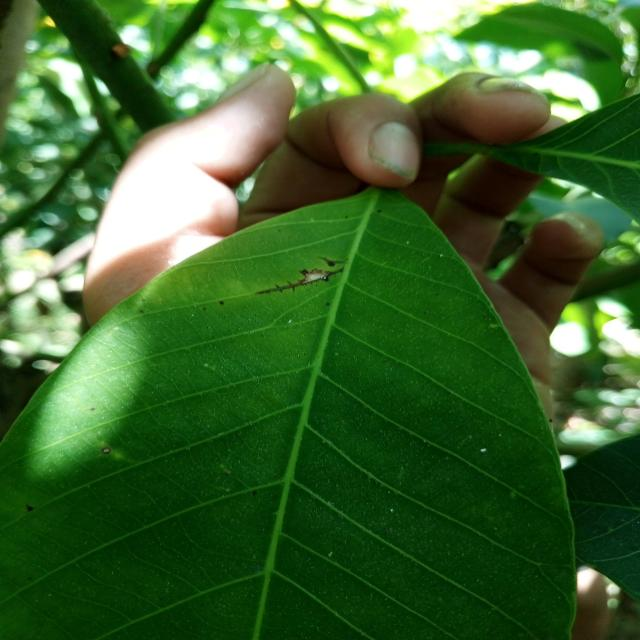Corynespora: (255, 268, 343, 295)
